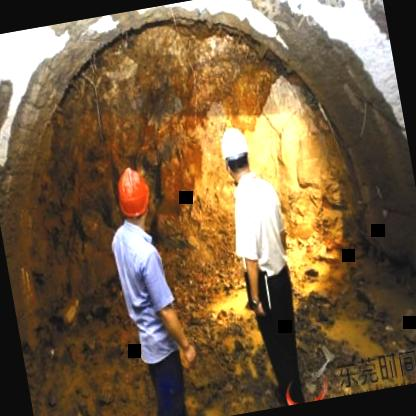helmet: (109, 159, 157, 229), (218, 122, 254, 186)
